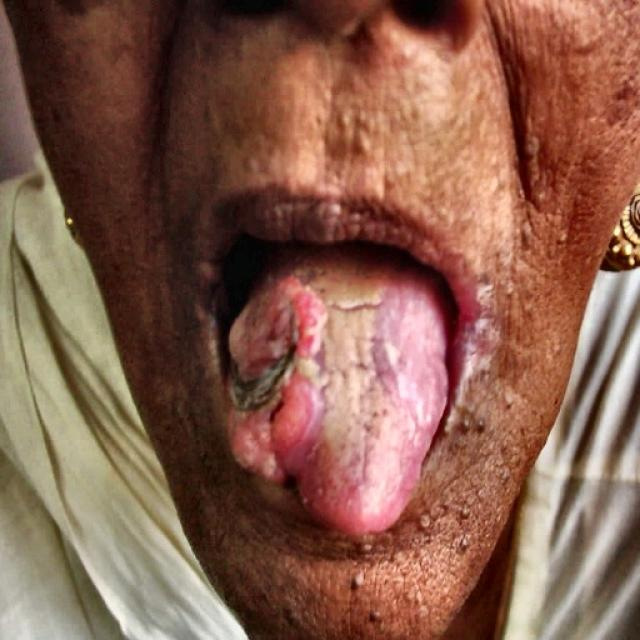cancer-detection: (227, 257, 419, 502)
processing_area: (223, 255, 453, 533)
